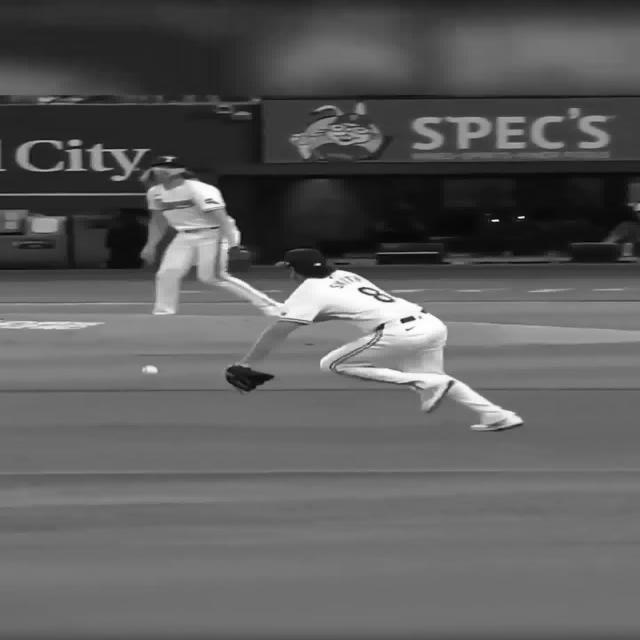baseball: (141, 364, 158, 374)
shoe: (224, 364, 274, 392), (418, 379, 454, 413), (469, 412, 523, 431), (261, 304, 287, 316)
